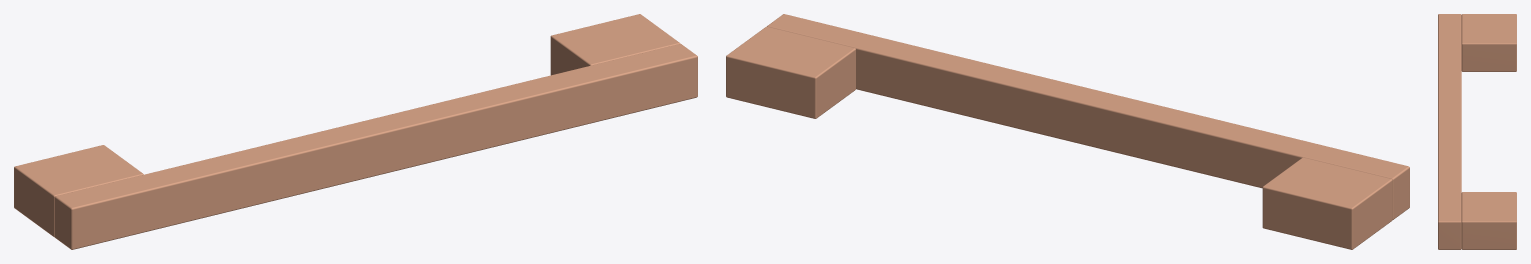
Rendered from eurofit-h-108-160sb.glb.
3 renders of one model, left to right at view 1: azimuth 30°, elevation 25°; view 2: azimuth 150°, elevation 25°; view 3: azimuth 270°, elevation 25°, orthographic. The views are drawn at different scales.
Visible parts, largest first — view 1: Blade grip, Mounting standoff, Mounting standoff.001; view 2: Blade grip, Mounting standoff, Mounting standoff.001; view 3: Blade grip, Mounting standoff, Mounting standoff.001.
Part boxes in pixels (x1,y1,x2,y2): Blade grip: (54, 44, 697, 249); Mounting standoff: (14, 145, 143, 237); Mounting standoff.001: (550, 14, 680, 75); Blade grip: (767, 14, 1409, 219); Mounting standoff: (1262, 157, 1392, 249); Mounting standoff.001: (726, 26, 855, 118); Blade grip: (1438, 14, 1461, 249); Mounting standoff: (1461, 14, 1516, 71); Mounting standoff.001: (1461, 192, 1516, 249).
Size of the model in its own units: 0.187 by 0.012 by 0.03.
